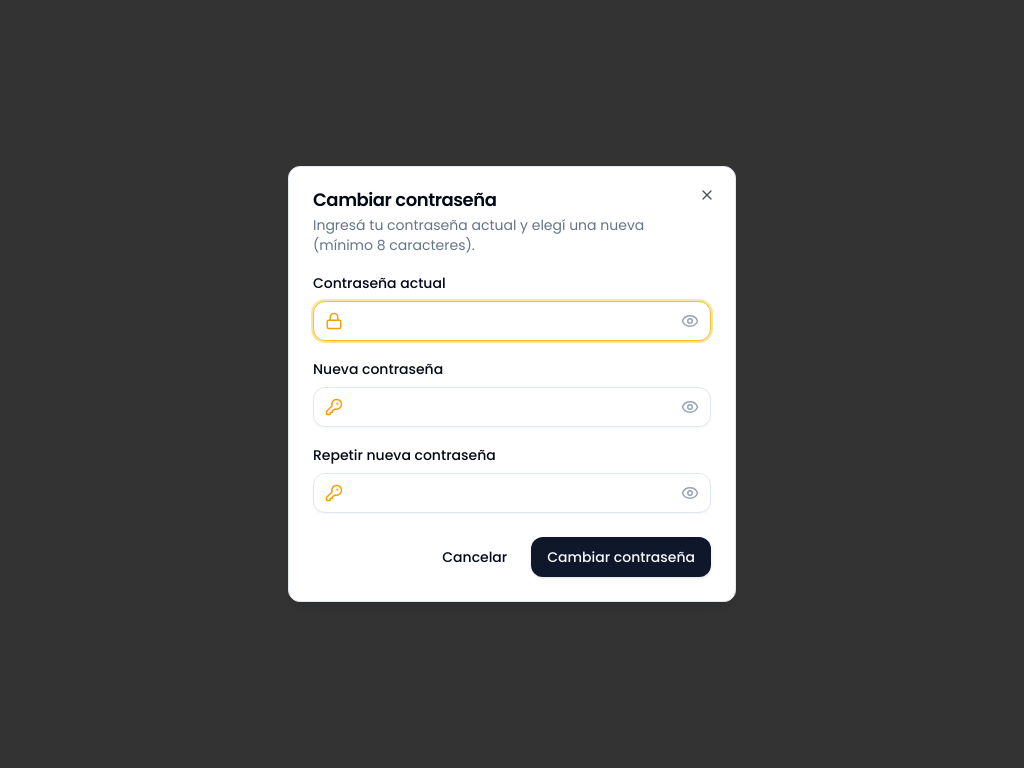
ChangePasswordDialog › muestra el error del backend (400) sin avisar éxito
The width and height of the screenshot is (1024, 768).
In the password field labelled "Contraseña actual": (512, 321) [313,301,711,341], type "WrongOld1"
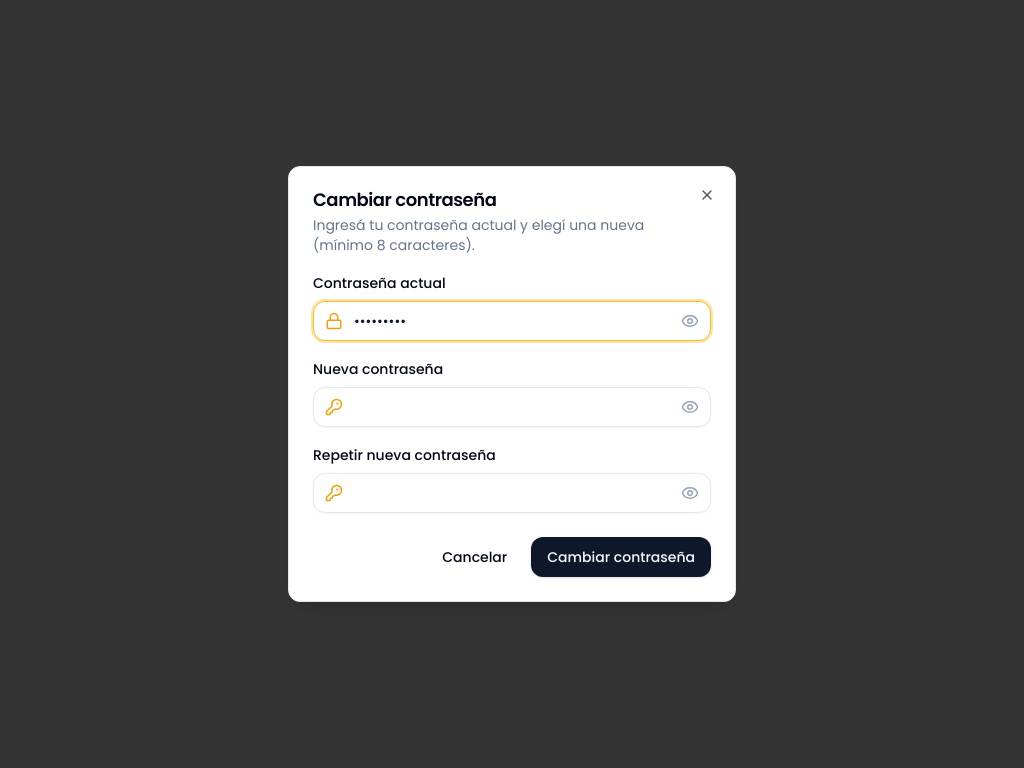
In the password field labelled "Nueva contraseña": (512, 407) [313,387,711,427], type "NewPass456"
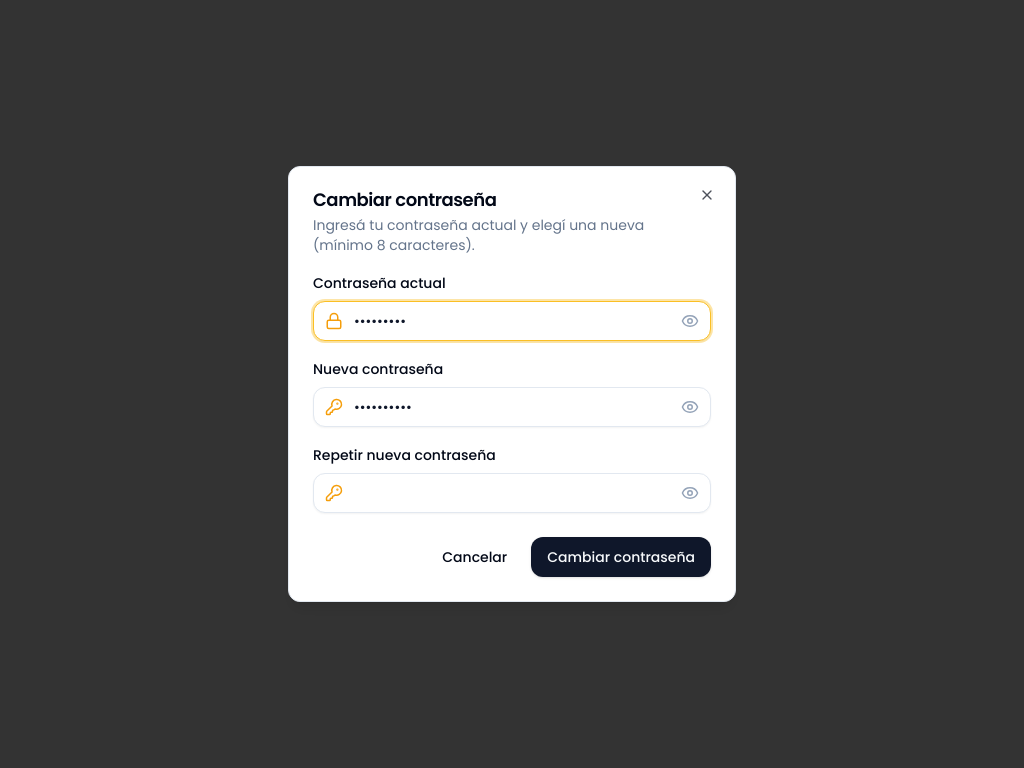
In the password field labelled "Repetir nueva contraseña": (512, 493) [313,473,711,513], type "NewPass456"
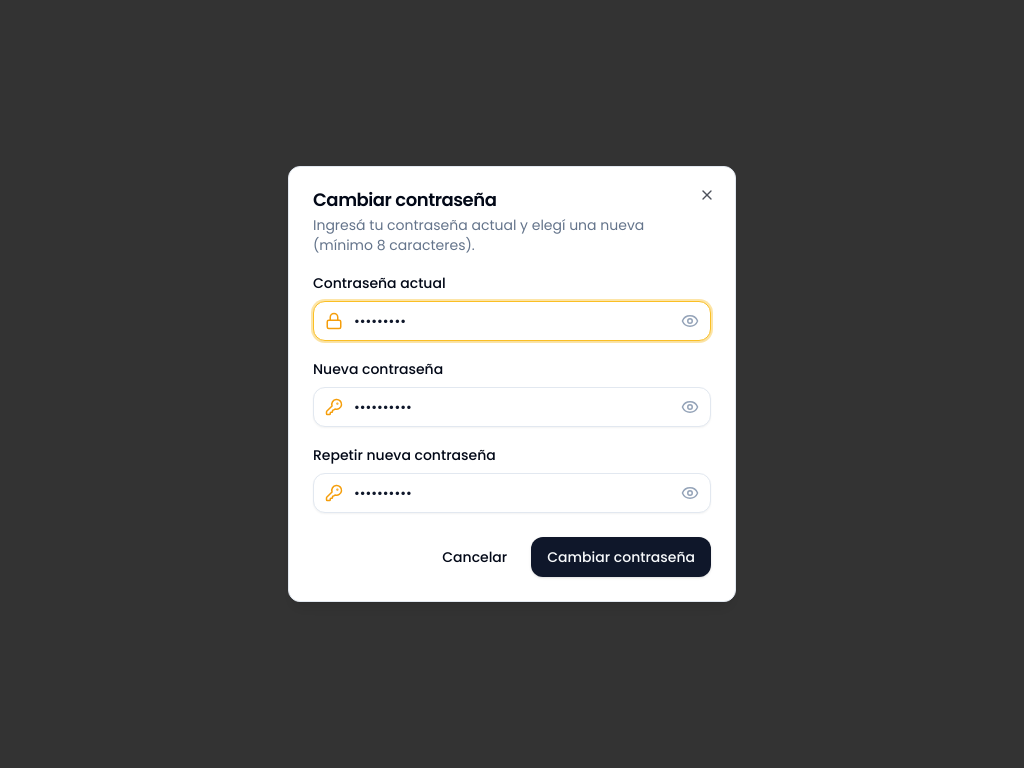
Click the button "Cambiar contraseña": (621, 557) [531,537,711,577]
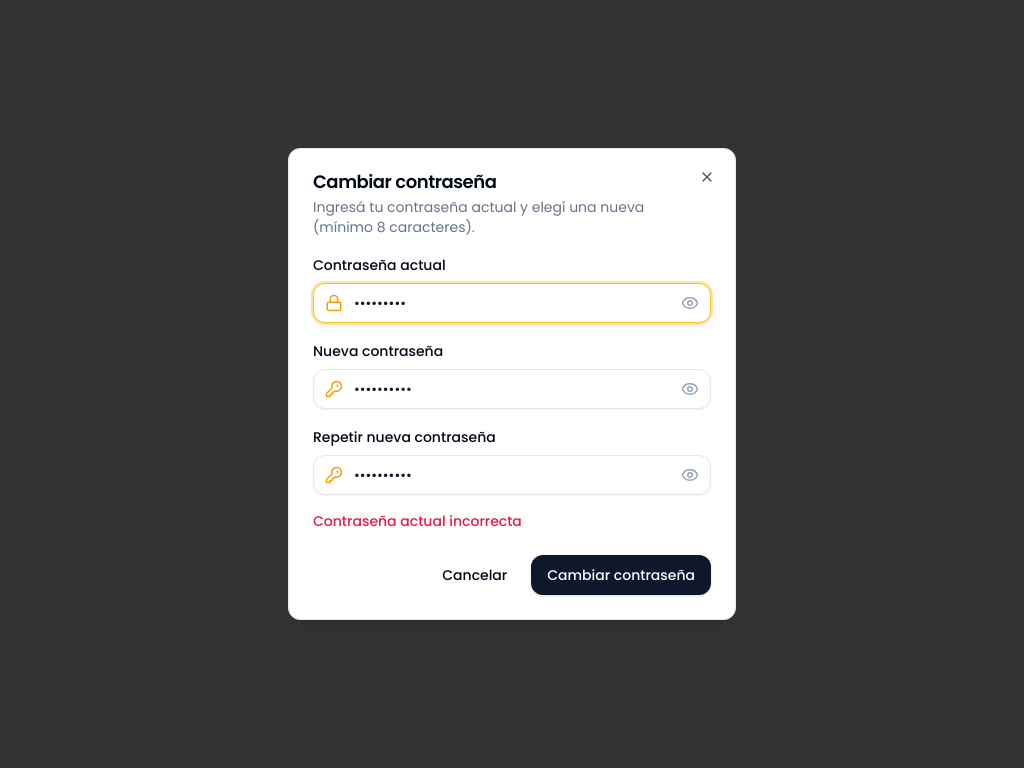
Check: the message shows "actual incorrecta", box [313,511,522,531]
